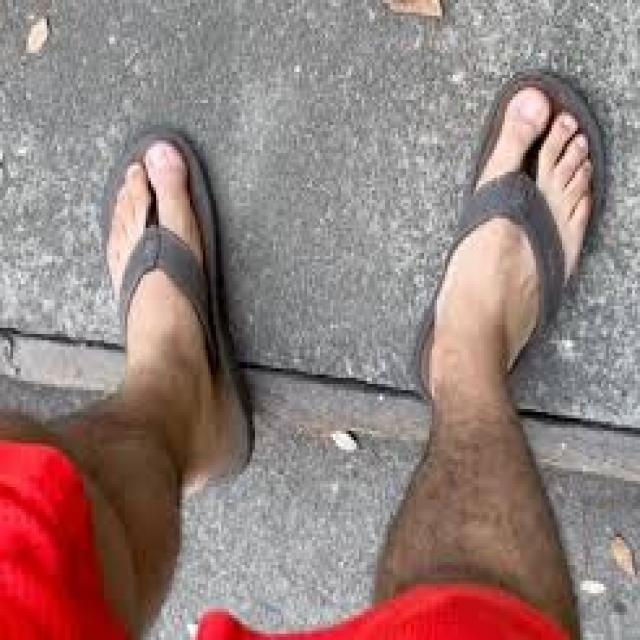No_Shoe: (450, 64, 583, 370), (91, 124, 246, 378)
